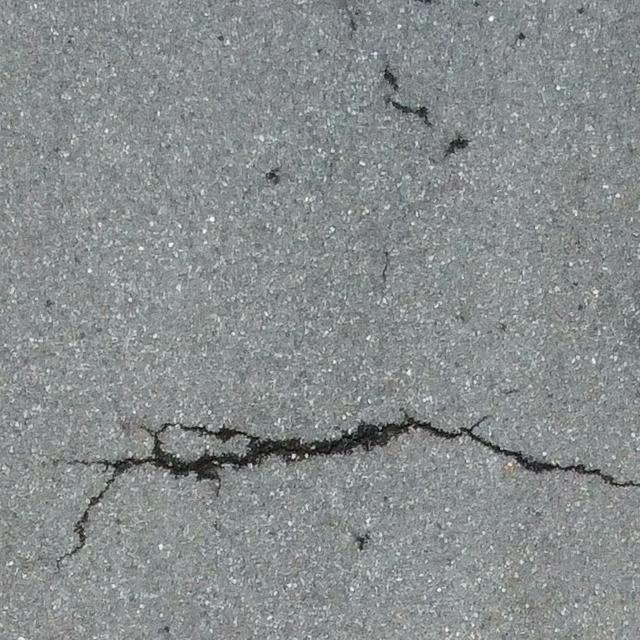TransverseCrack: (50, 406, 640, 567)
